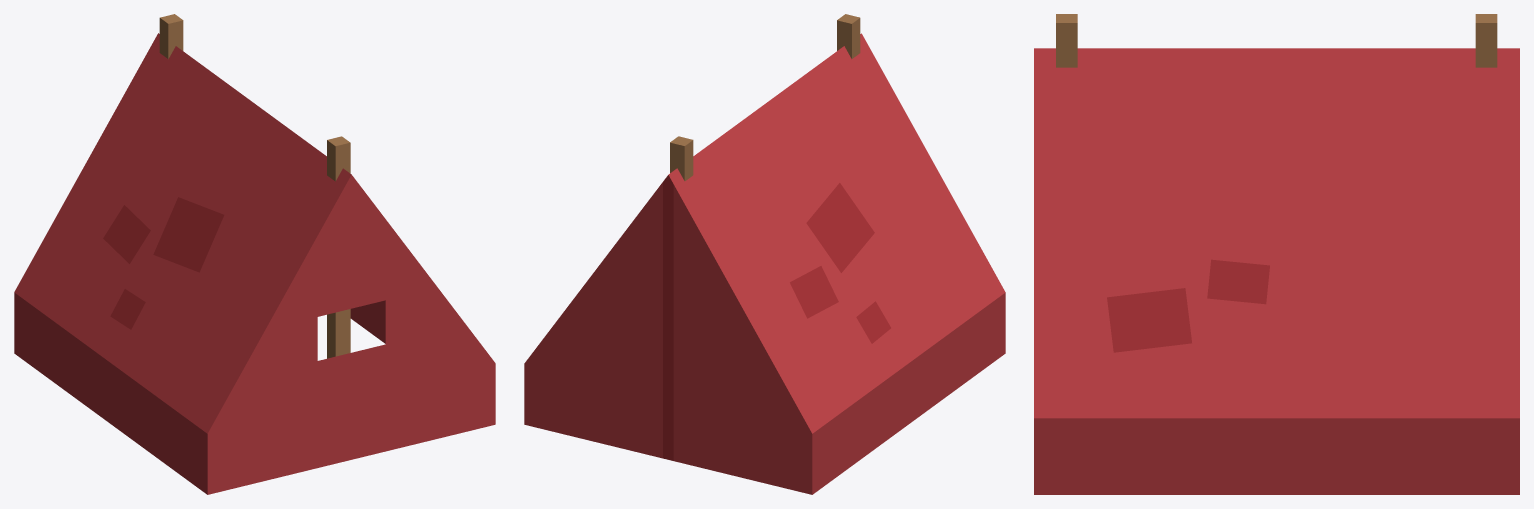
Rendered from tent_smallClosed.glb.
The picture shows the model from 3 angles, left to right: view 1: azimuth 30°, elevation 25°; view 2: azimuth 150°, elevation 25°; view 3: azimuth 270°, elevation 25°; orthographic projection. The views are drawn at different scales.
Parts seen in each view (by area): view 1: tent_smallClosed; view 2: tent_smallClosed; view 3: tent_smallClosed.
Part boxes in pixels (x1,y1,x2,y2): tent_smallClosed: (14, 14, 495, 494); tent_smallClosed: (524, 14, 1005, 494); tent_smallClosed: (1034, 14, 1519, 494).
Size of the model in its own units: 0.5476 by 0.5611 by 0.6364.
